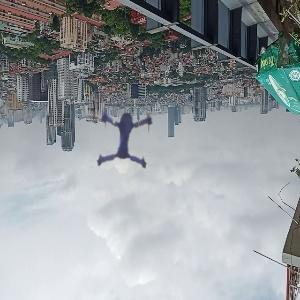drone: (84, 89, 169, 174)
